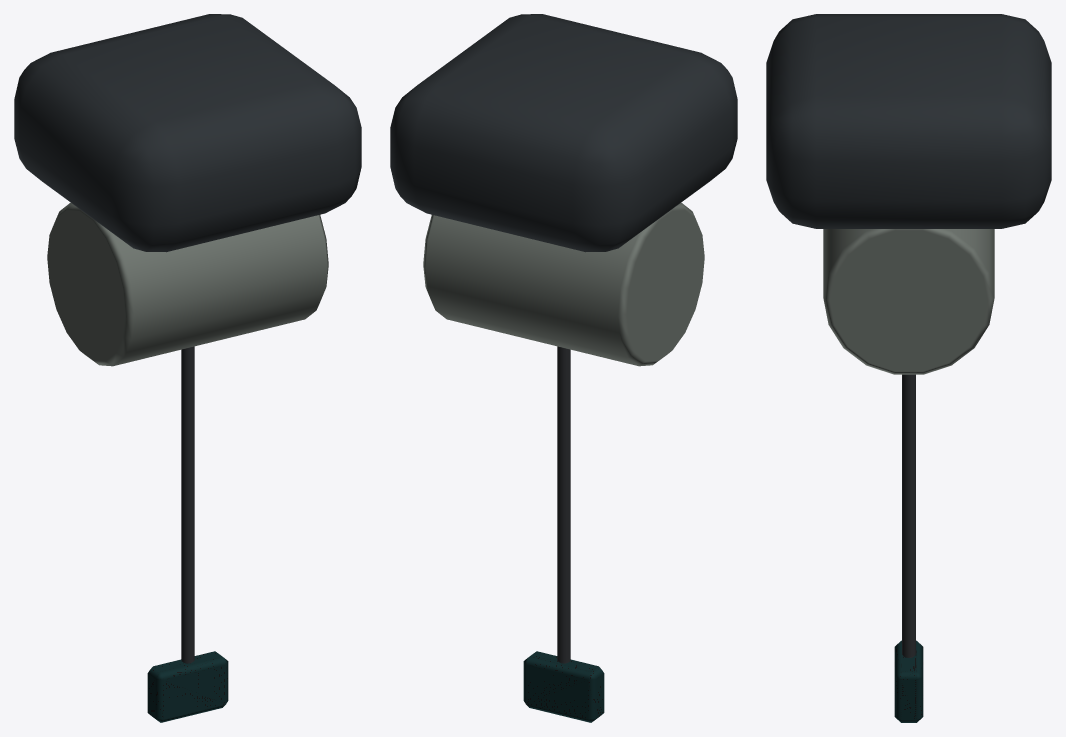
File: Winch_Heavy.fbx
3 renders of one model, left to right at view 1: azimuth 30°, elevation 25°; view 2: azimuth 150°, elevation 25°; view 3: azimuth 270°, elevation 25°, orthographic.
Parts seen in each view (by area): view 1: Winch_Heavy; view 2: Winch_Heavy; view 3: Winch_Heavy.
Part boxes in pixels (x1,y1,x2,y2): Winch_Heavy: (14,14,361,722); Winch_Heavy: (390,14,737,722); Winch_Heavy: (766,14,1051,722).
Size of the model in its own units: 0.6 by 1.51 by 0.6.
